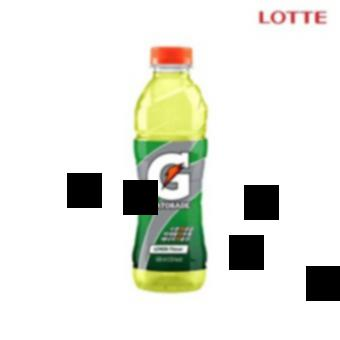gatorade_lemon: (119, 41, 220, 300)
